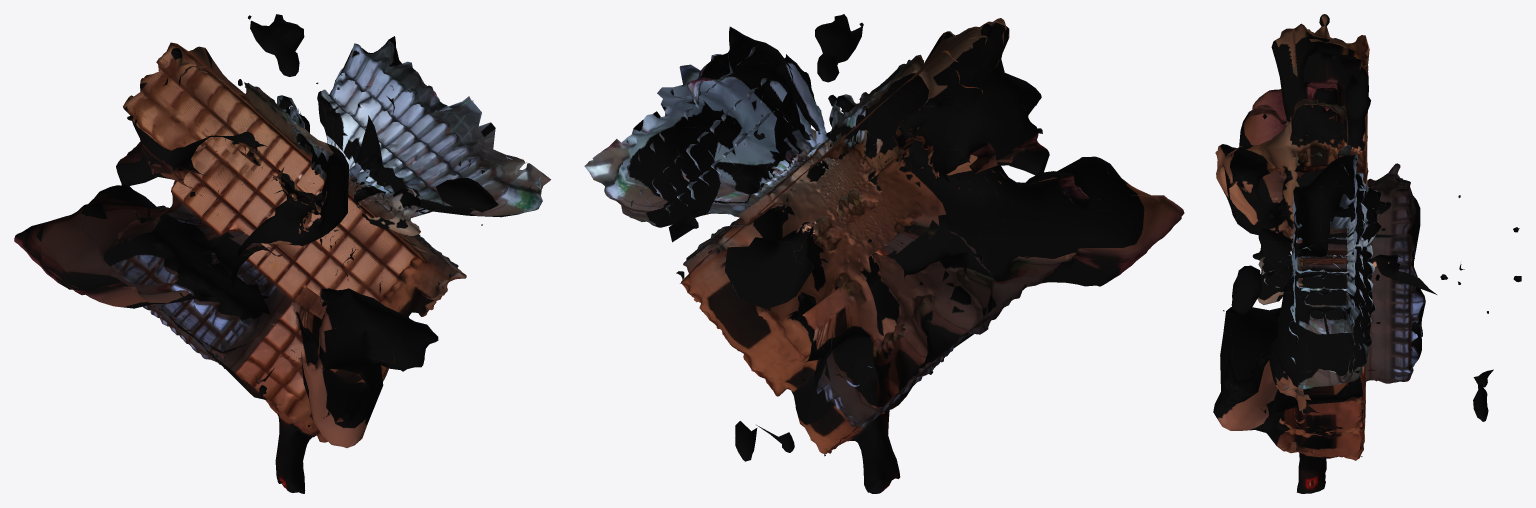
The model's file is lobby.glb.
The picture shows the model from 3 angles, left to right: view 1: azimuth 30°, elevation 25°; view 2: azimuth 150°, elevation 25°; view 3: azimuth 270°, elevation 25°; orthographic projection. The views are drawn at different scales.
Bounding box in the file's own units: 356 × 304 × 197.
Materials: 1 (1 with a texture image).
